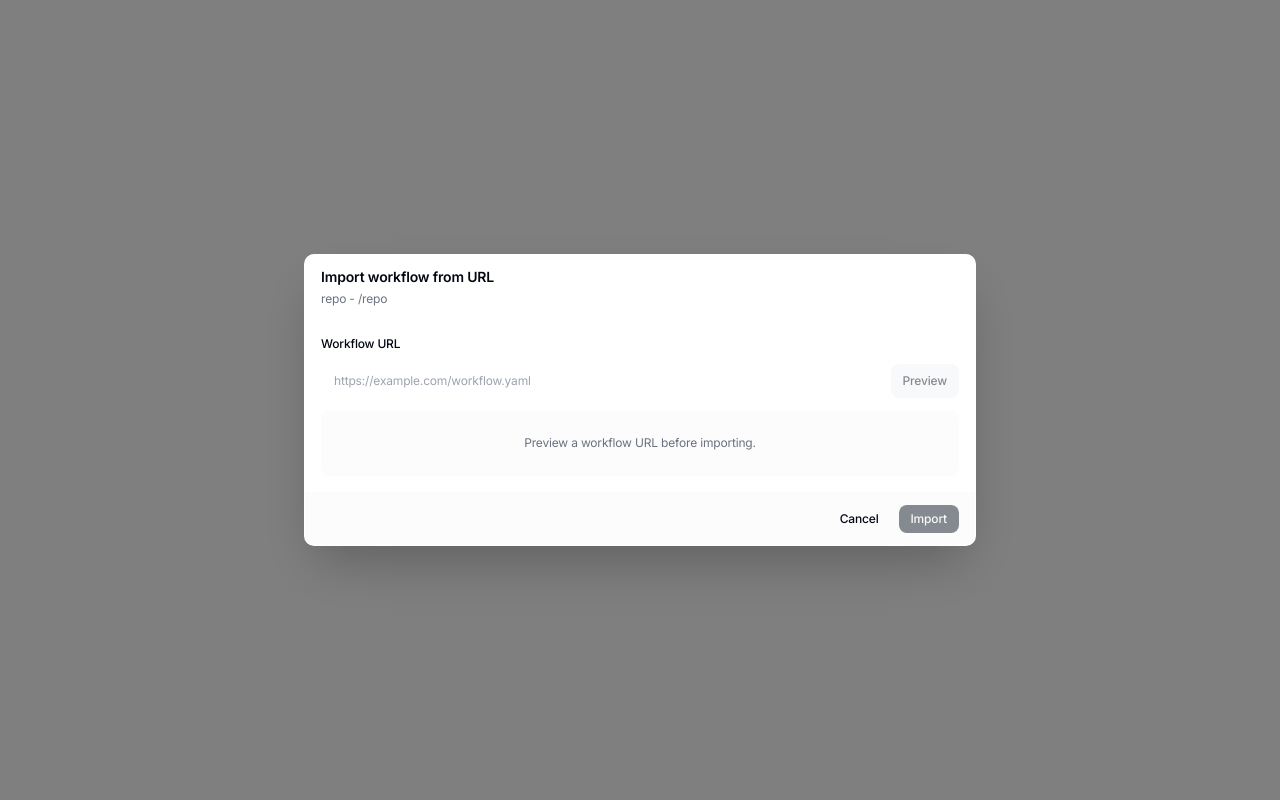
ImportWorkflowDialog › shows preview errors and keeps import disabled
This screenshot has width=1280, height=800.
In the field labelled "Workflow URL": (602, 381) [321,364,883,398], type "http://example.com/deploy.yaml"
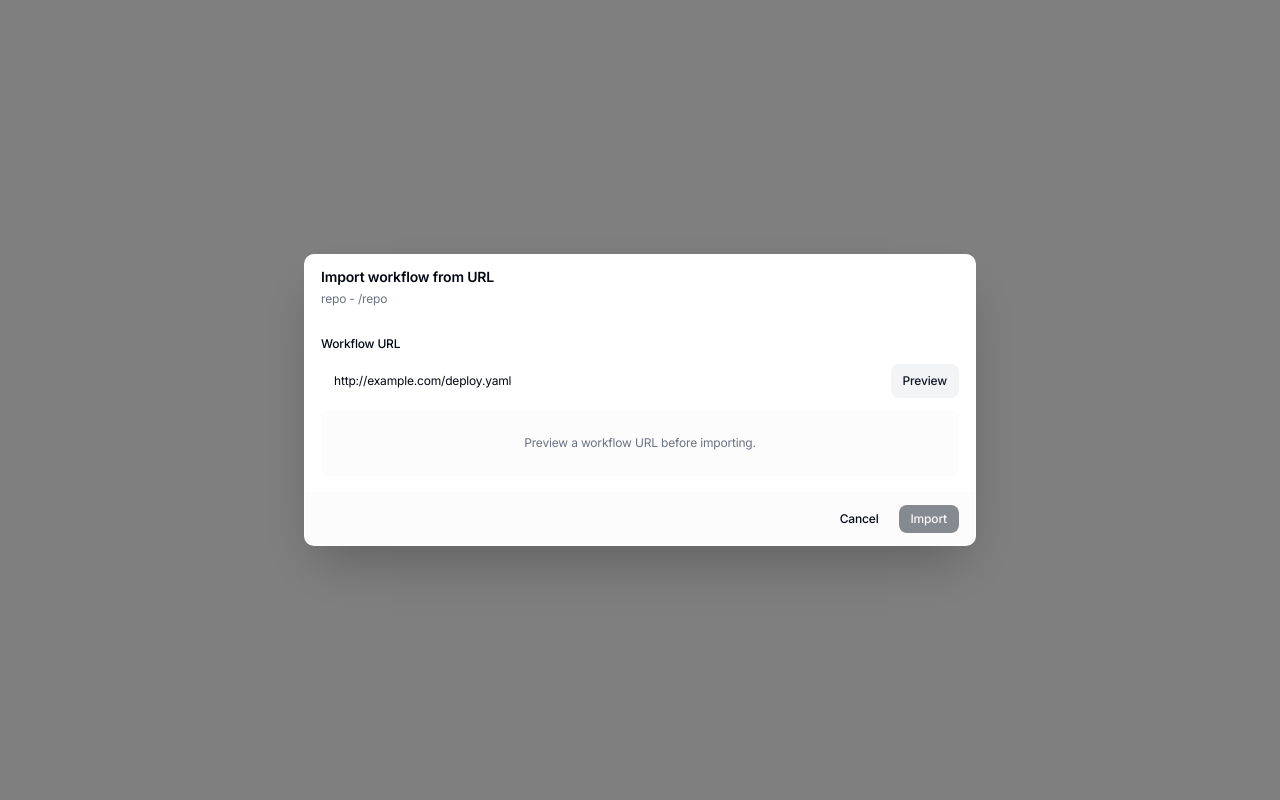
Click the button "Preview": (925, 381) [891,364,959,398]
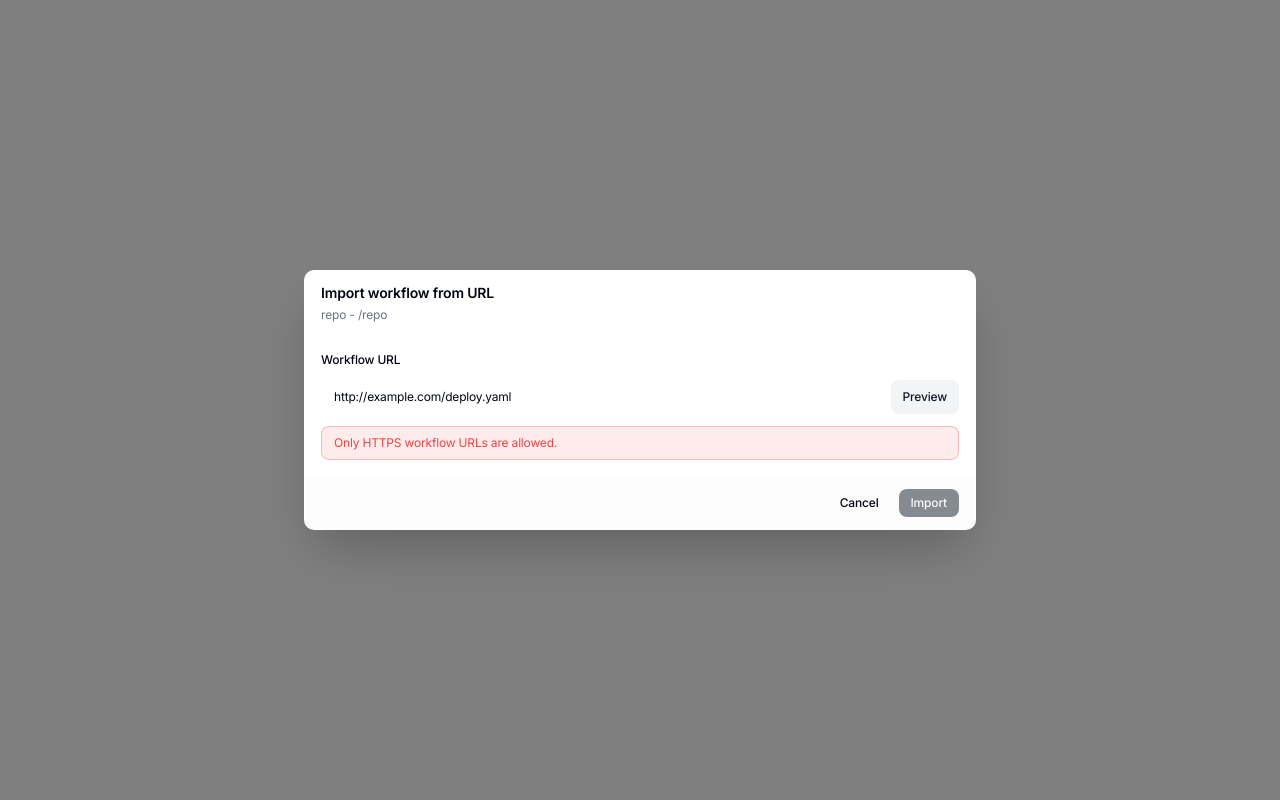
Expected: the button "Import" is disabled, [898,489,959,517]
Result: the text "Only HTTPS workflow URLs are allowed." is shown at [321,426,959,460]
